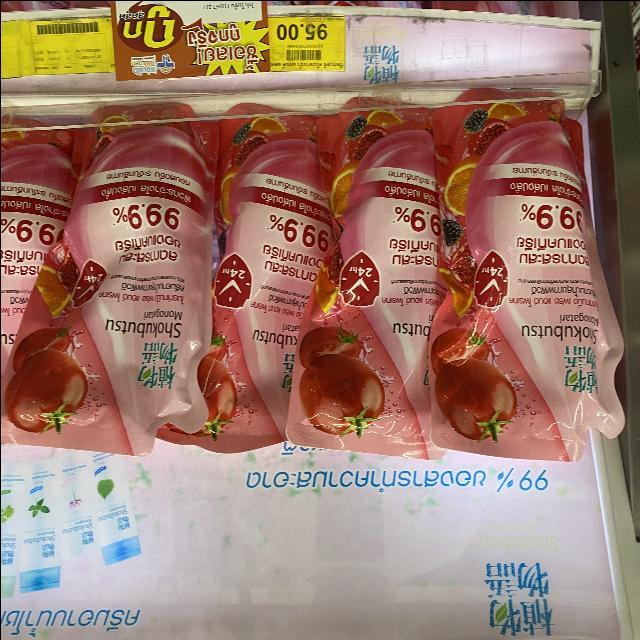Squeeze Tube: (1, 58, 640, 486), (0, 109, 216, 444), (454, 90, 635, 453), (319, 102, 459, 450), (200, 114, 327, 451)
